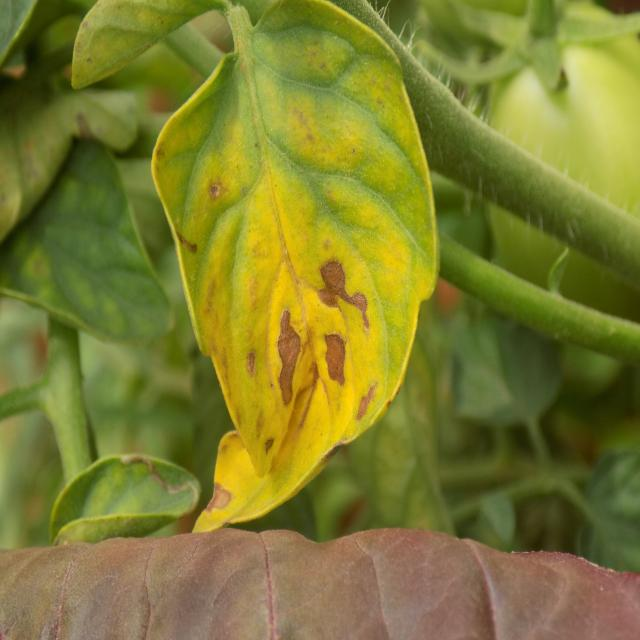tomato_early blight: (147, 0, 440, 532)
